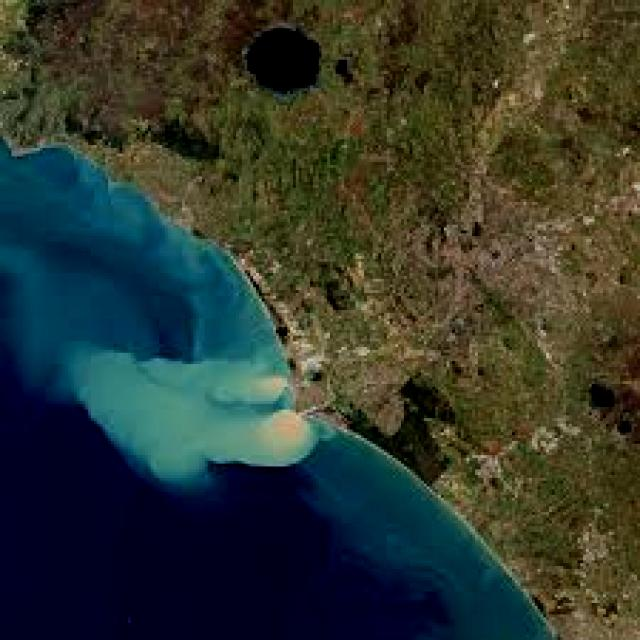oil spill: (18, 220, 310, 511)
